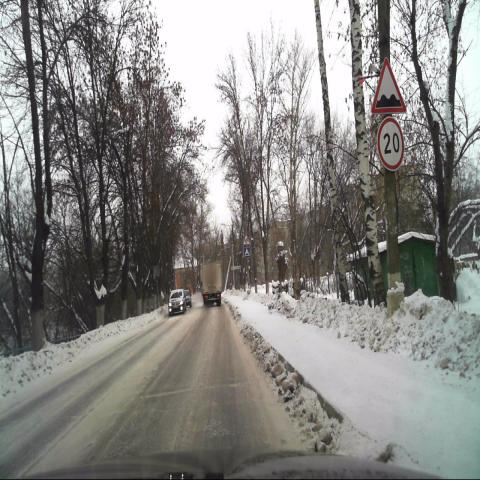1_16: (370, 58, 406, 115)
